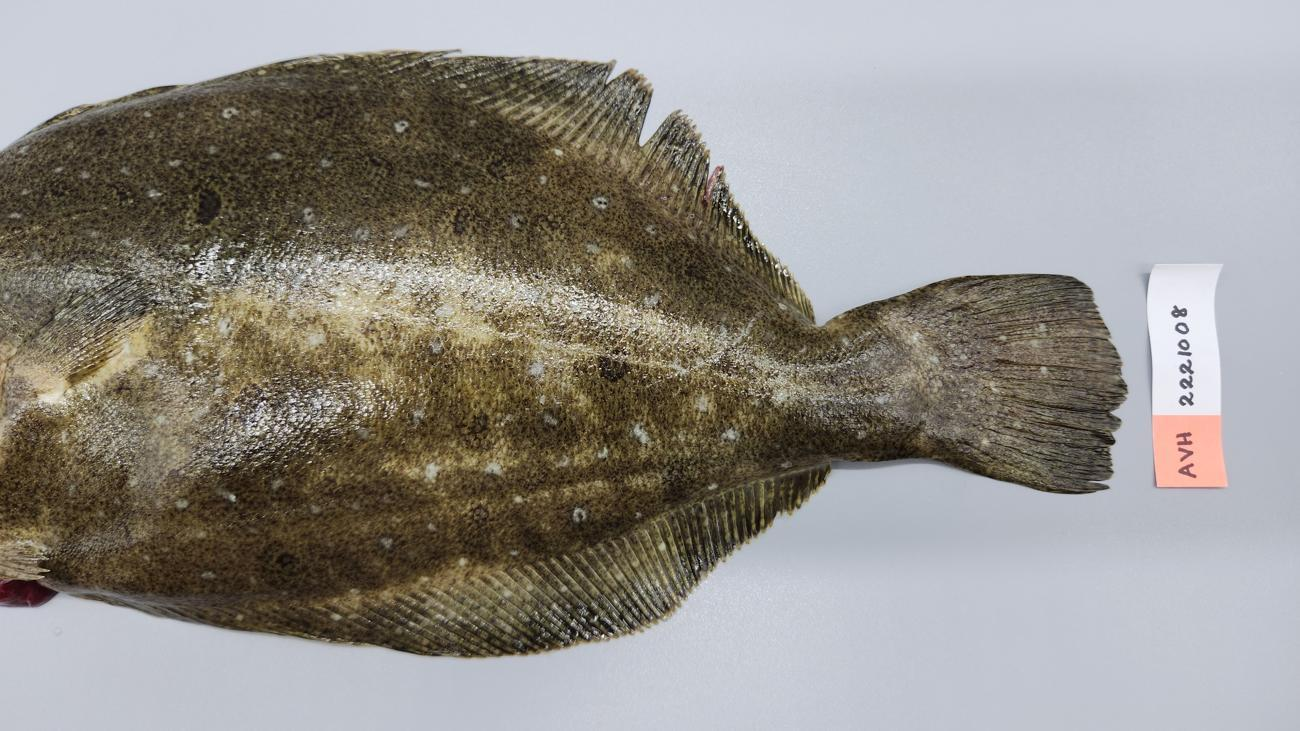VIFCH: (965, 298, 1120, 444)
VIFDH: (689, 149, 728, 244)
